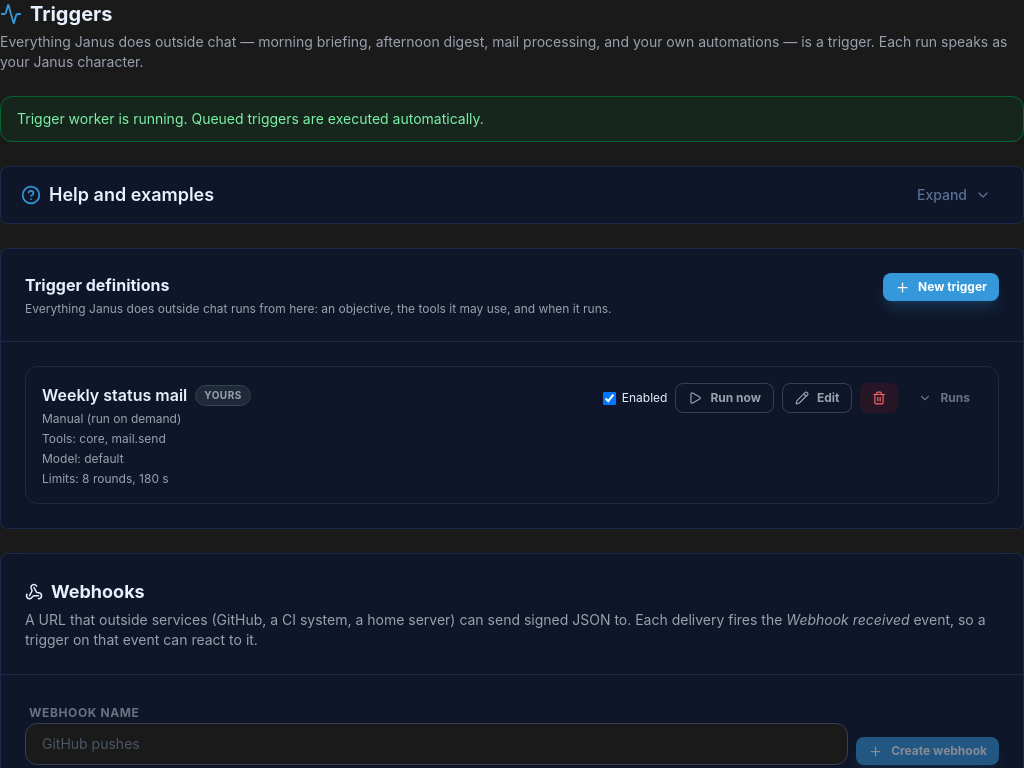
Scenario: RuntimeTriggerManager › asks before deleting a definition, and Cancel keeps it
The image size is (1024, 768).
Later steps or results of the test are not shown.
Click the button named "Delete Weekly status mail" at (880, 398), box [860,383,898,413]
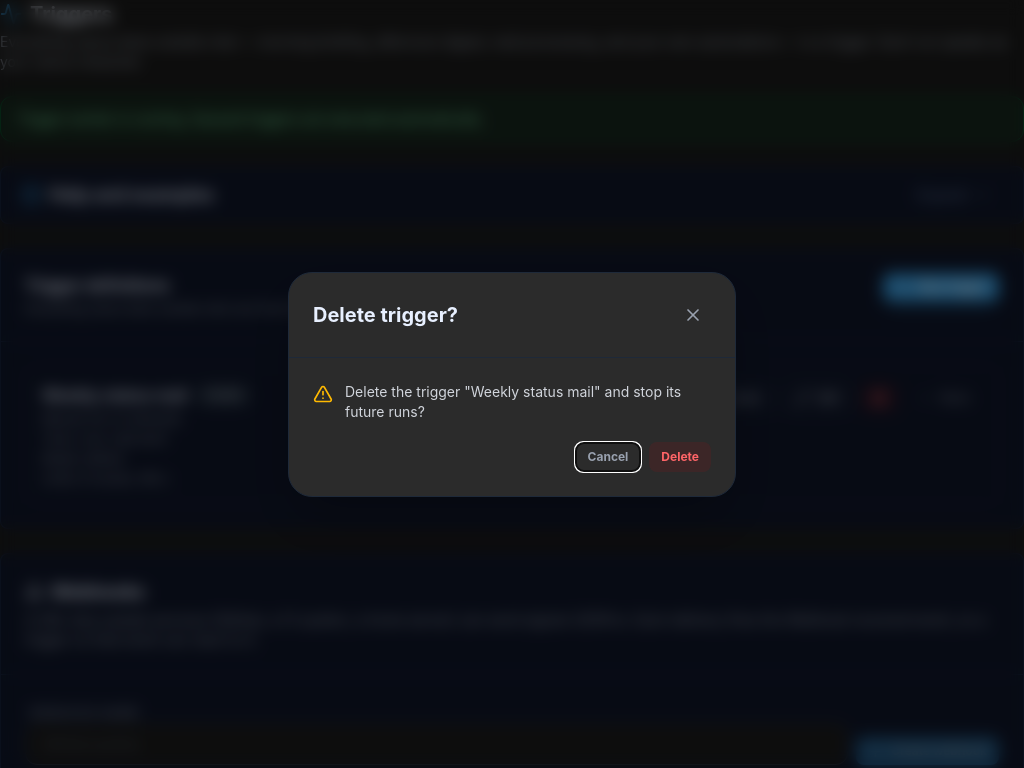
Check: the dialog "Delete trigger?" shows "Delete the trigger \"Weekly status mail\" and stop its future runs?", box [345,382,681,420]
Click the button "Cancel" at (608, 456), box [575,442,641,472]
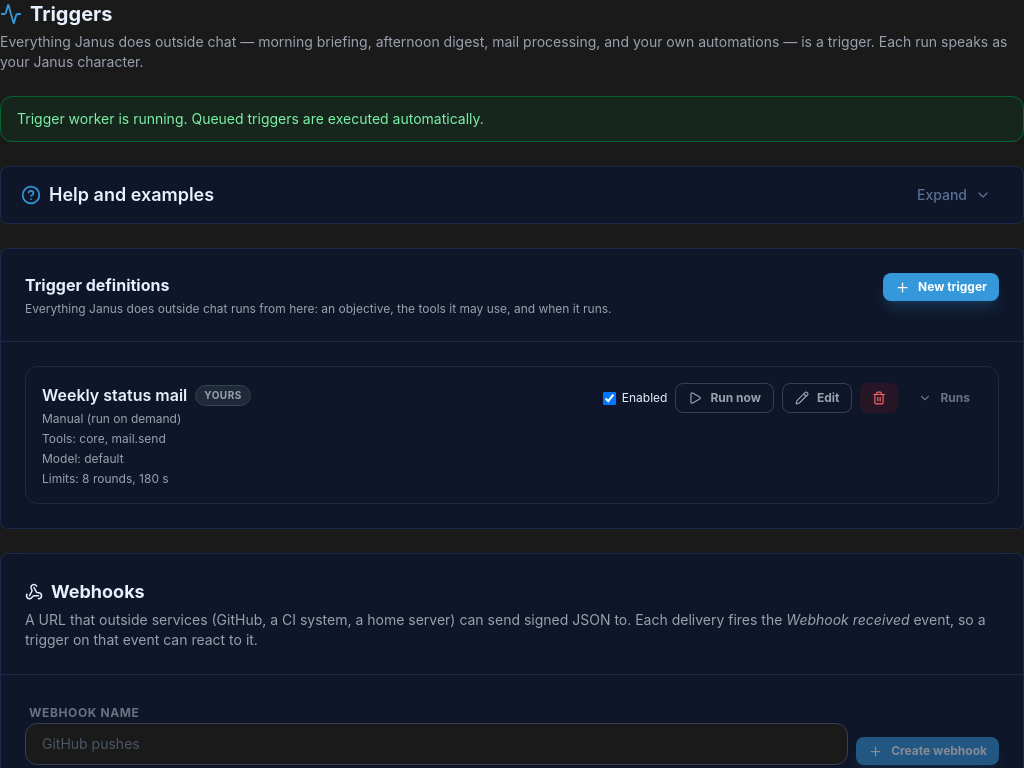
Check: the dialog is gone
